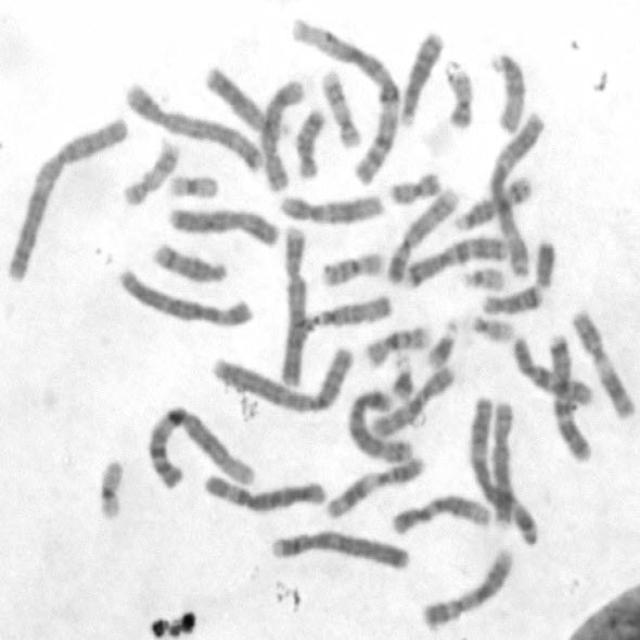A1: (286, 11, 402, 185), (143, 402, 255, 490)
A2: (2, 110, 130, 283), (205, 339, 357, 415)
A3: (463, 387, 541, 548), (485, 108, 547, 280)
B4: (265, 524, 413, 573), (274, 222, 310, 390)
B5: (121, 78, 266, 174), (345, 386, 414, 463)
C10: (368, 360, 457, 439), (508, 331, 596, 410)
C11: (567, 304, 637, 418), (320, 450, 426, 520)
C12: (386, 488, 493, 536), (276, 189, 386, 225)
C6: (114, 262, 257, 330), (196, 469, 326, 514)
C7: (544, 329, 594, 464), (399, 230, 509, 291)
C8: (258, 76, 309, 195), (488, 396, 516, 527)
C9: (416, 542, 516, 630), (384, 184, 461, 287)
D13: (201, 60, 293, 142), (396, 27, 445, 126)
D14: (449, 172, 533, 234), (147, 238, 228, 284)
D15: (302, 288, 394, 332), (485, 44, 528, 136)
E16: (360, 320, 432, 369), (318, 247, 386, 287)
E17: (120, 134, 182, 209), (318, 64, 363, 150)
E18: (293, 104, 326, 180), (480, 278, 544, 316)
F19: (92, 452, 128, 522), (165, 170, 220, 201)
F20: (439, 56, 475, 130), (386, 166, 444, 206)
G21: (423, 316, 459, 371), (387, 350, 417, 401)
G22: (466, 310, 516, 345), (459, 262, 506, 292)
X: (164, 201, 280, 251)
Y: (530, 234, 558, 290)
